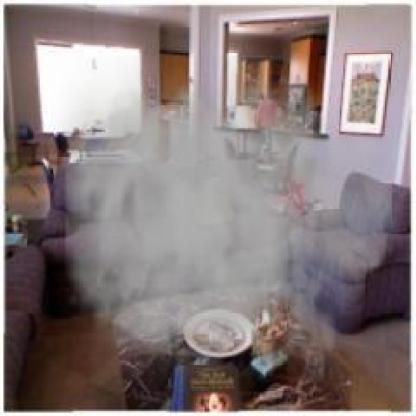Smoke: (44, 56, 393, 412)
